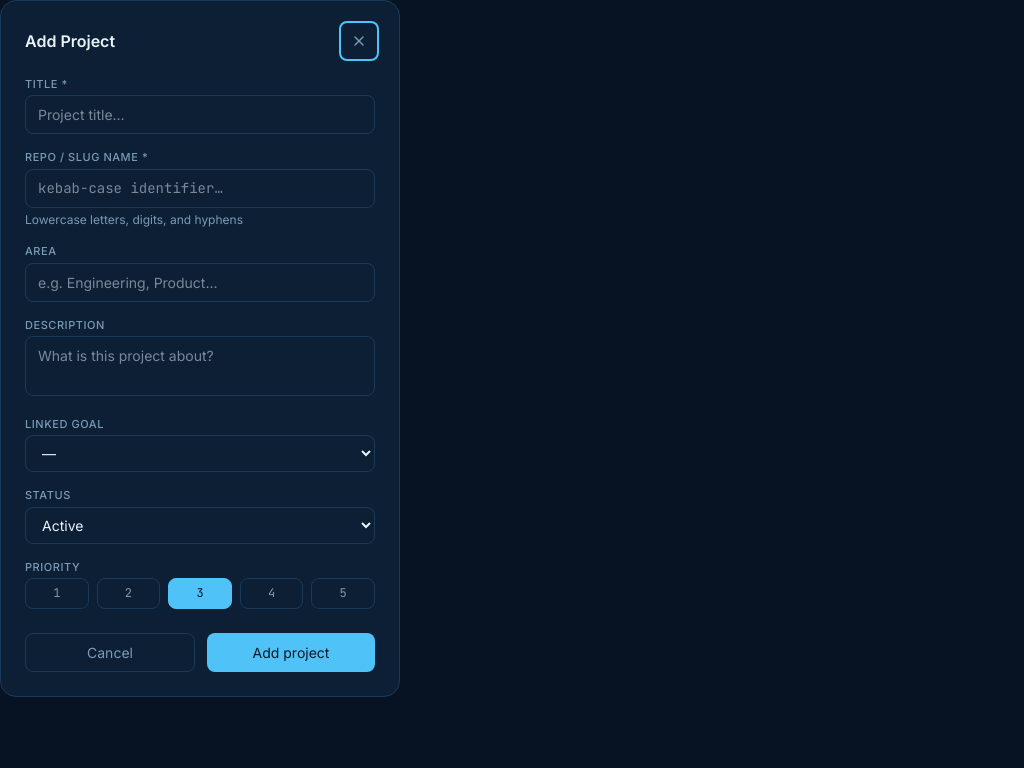
Test: ProjectModal — Create mode › shows slug suggestion and applies it on click
Type "My Cool Project" into the field labelled "Title *" at [200, 115], box [25,95,375,134]
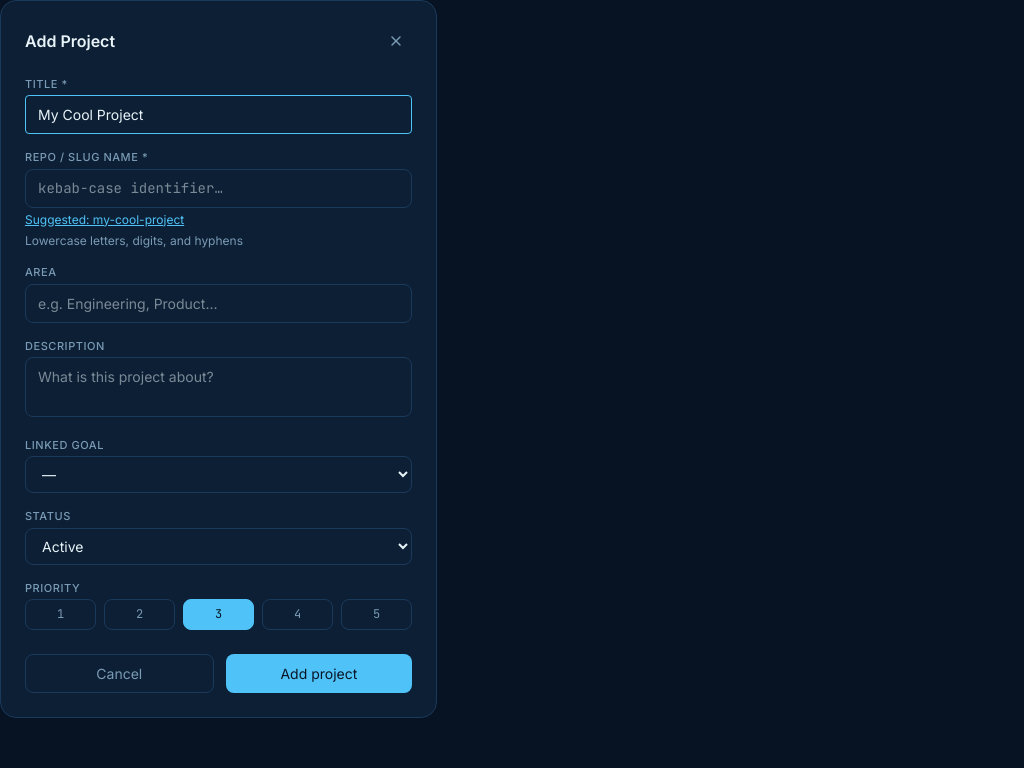
Result: the button "Suggested: my-cool-project" is shown
Click the button "Suggested: my-cool-project" at [105, 220], box [25,212,184,228]
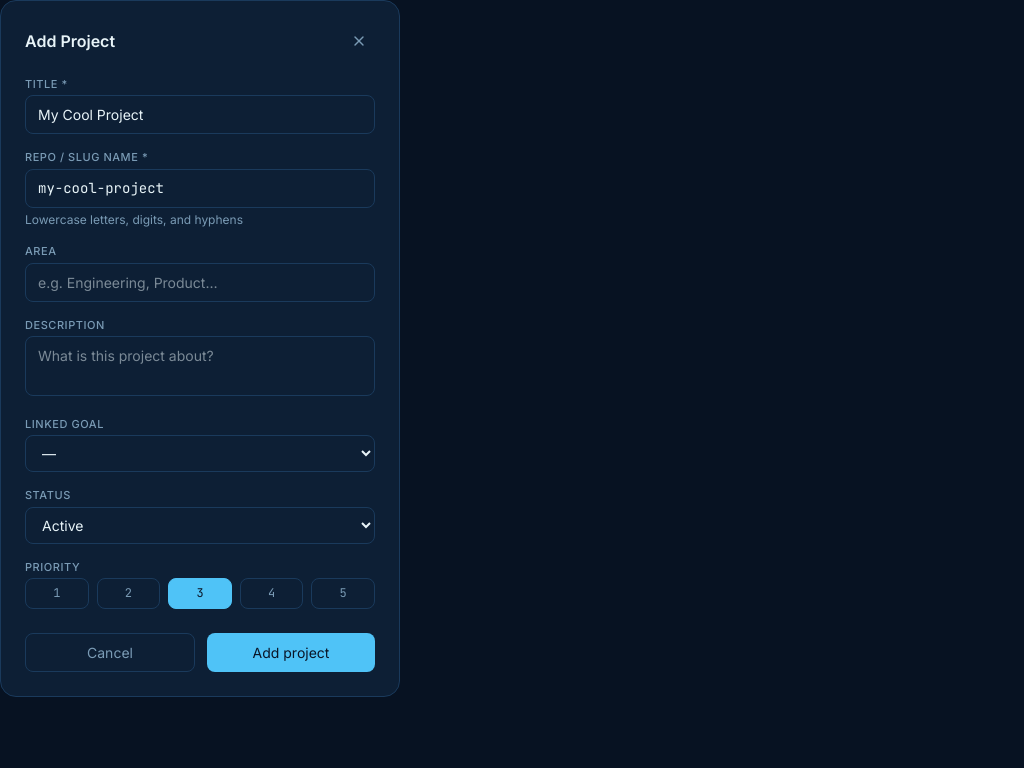
Result: the field labelled "Repo / slug name *" holds "my-cool-project" at [25,169,375,208]
Result: the button "Suggested: my-cool-project" is gone
